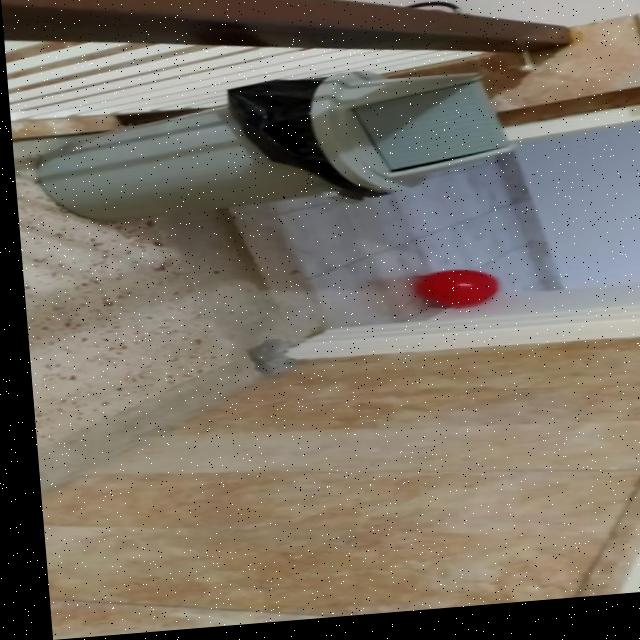balloon: (411, 274, 497, 317)
